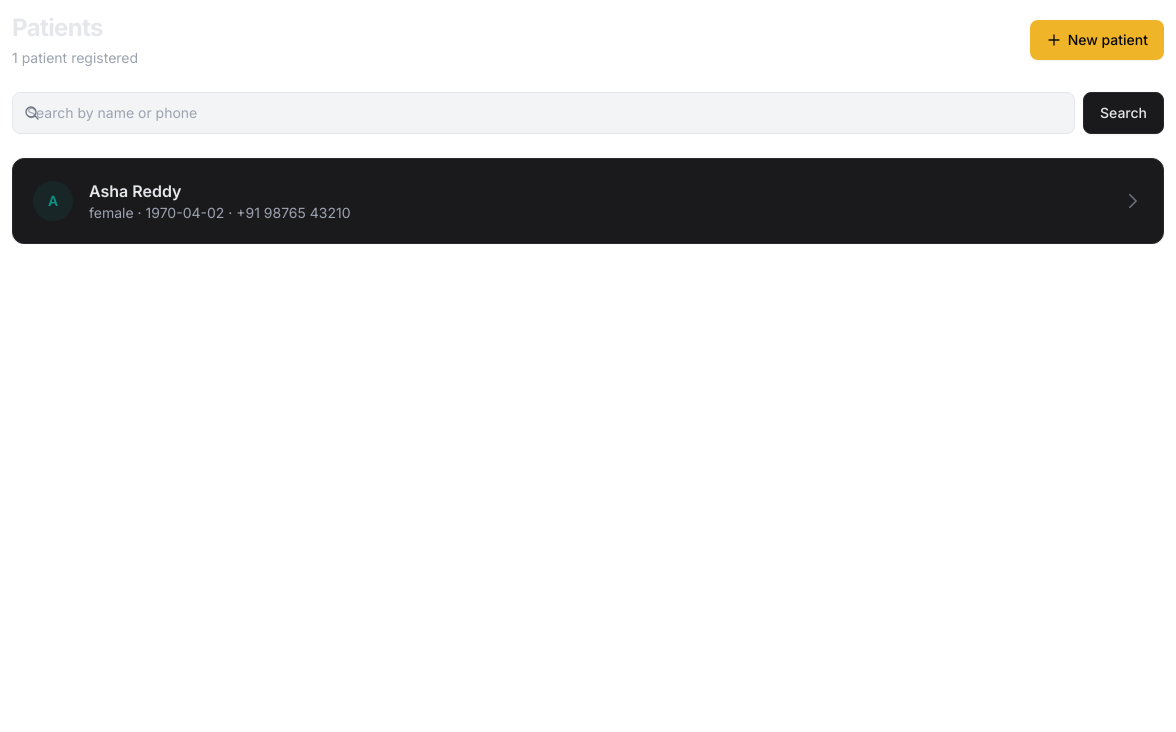
it: PatientsPage › gates patient creation behind the DPDP consent checkbox
Expected: the text "Asha Reddy" is shown, [89,181,182,201]
Click the button "New patient": (1097, 40) [1030,20,1164,60]
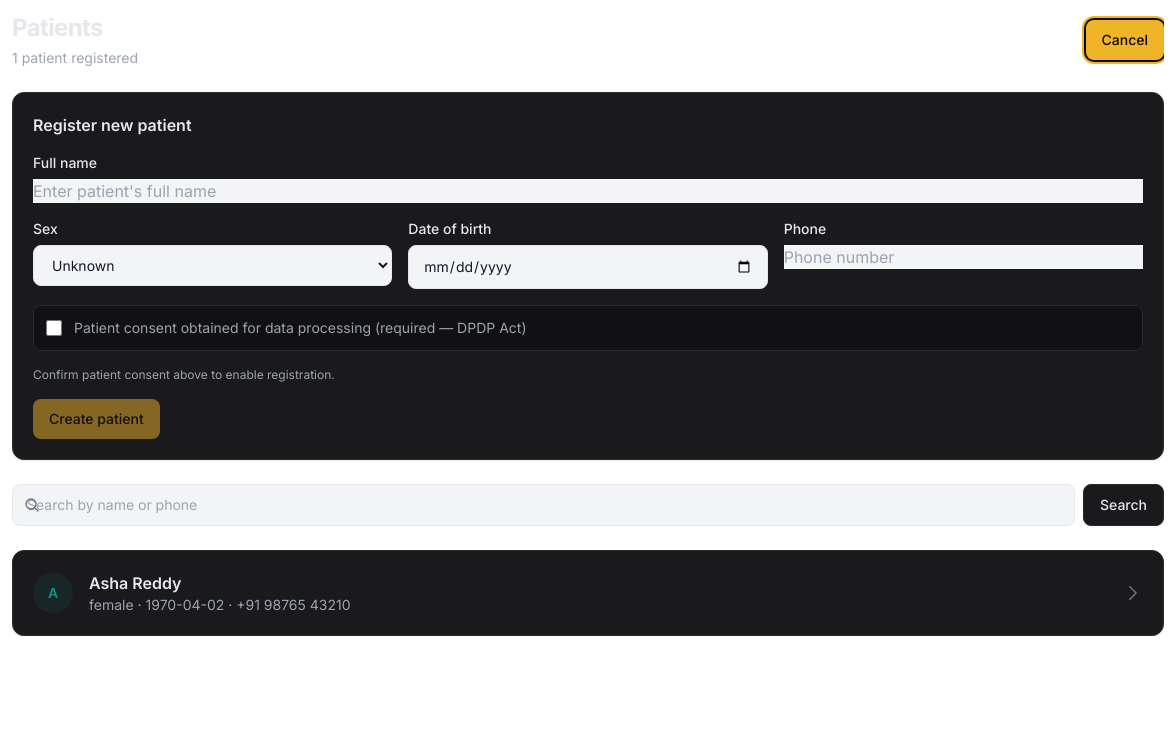
Expected: the button "Create patient" is disabled, [33,399,160,439]
Click the checkbox: (54, 328) [46,320,62,336]
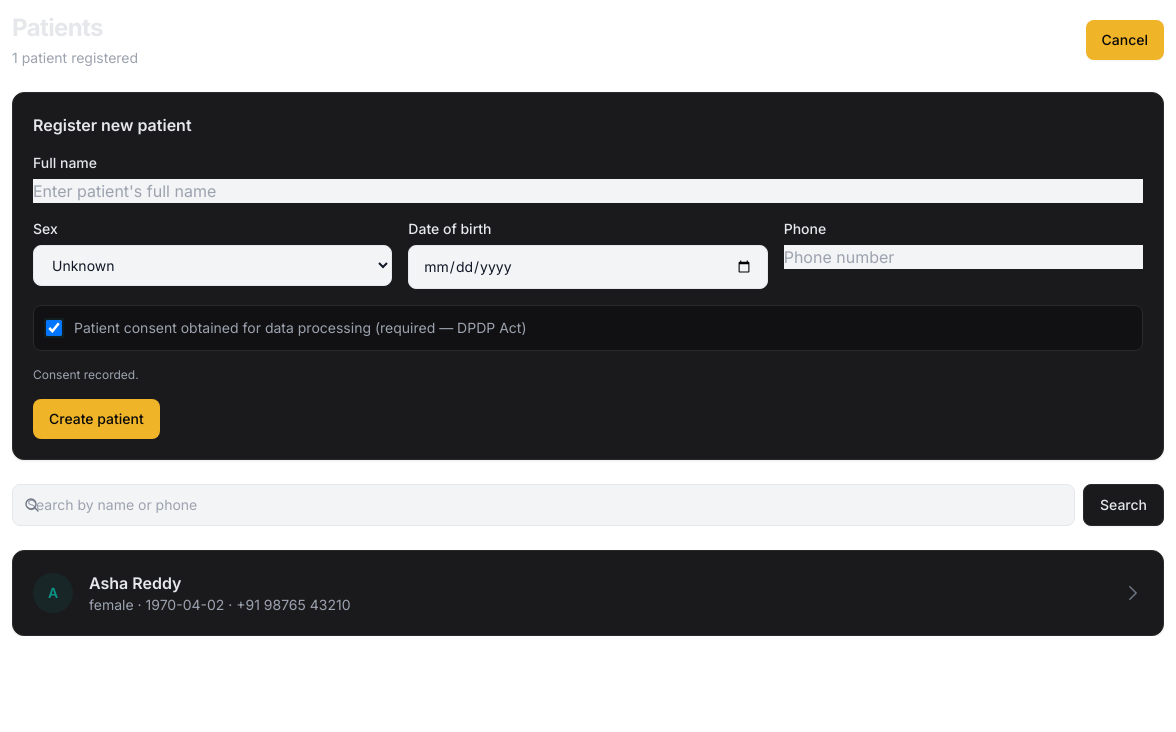
Expected: the button "Create patient" is enabled, [33,399,160,439]
